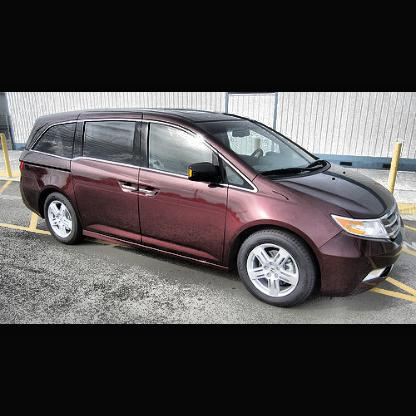Honda Odyssey Minivan 2012: (18, 105, 410, 309)
